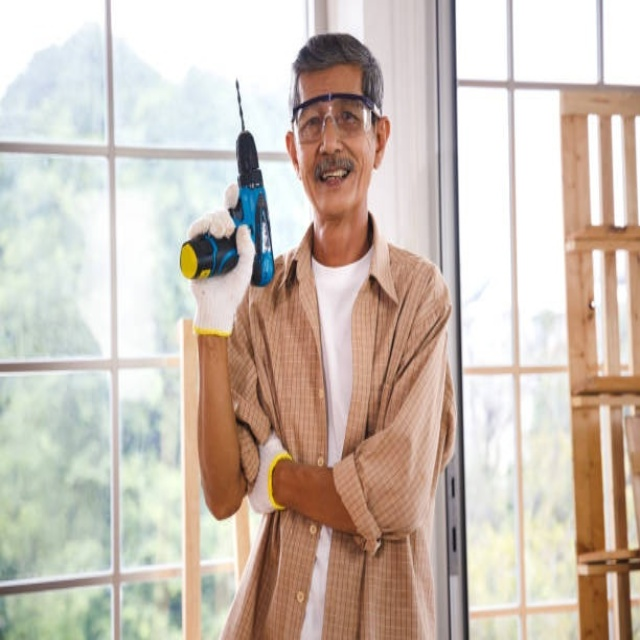Gafas: (291, 97, 380, 146)
Guantes: (186, 201, 255, 338), (248, 431, 293, 515)
Sin_mascara: (314, 158, 357, 202)
